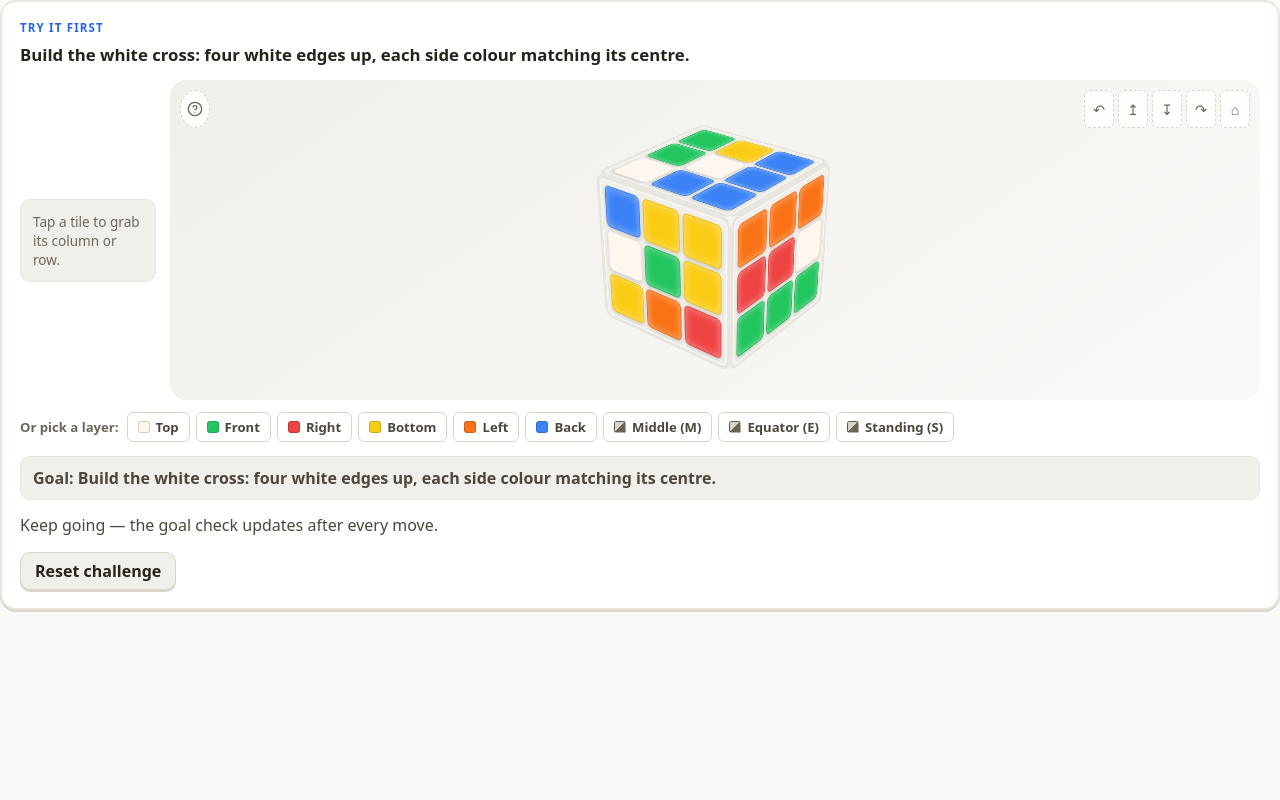
Test: ChallengePanel — 3×3 sticker-level layer selection › the centre tile toggles between its two slices on repeated taps
This screenshot has width=1280, height=800.
Click the button with test id "cube-sticker". click: (664, 272)
box: [596,172,731,372]
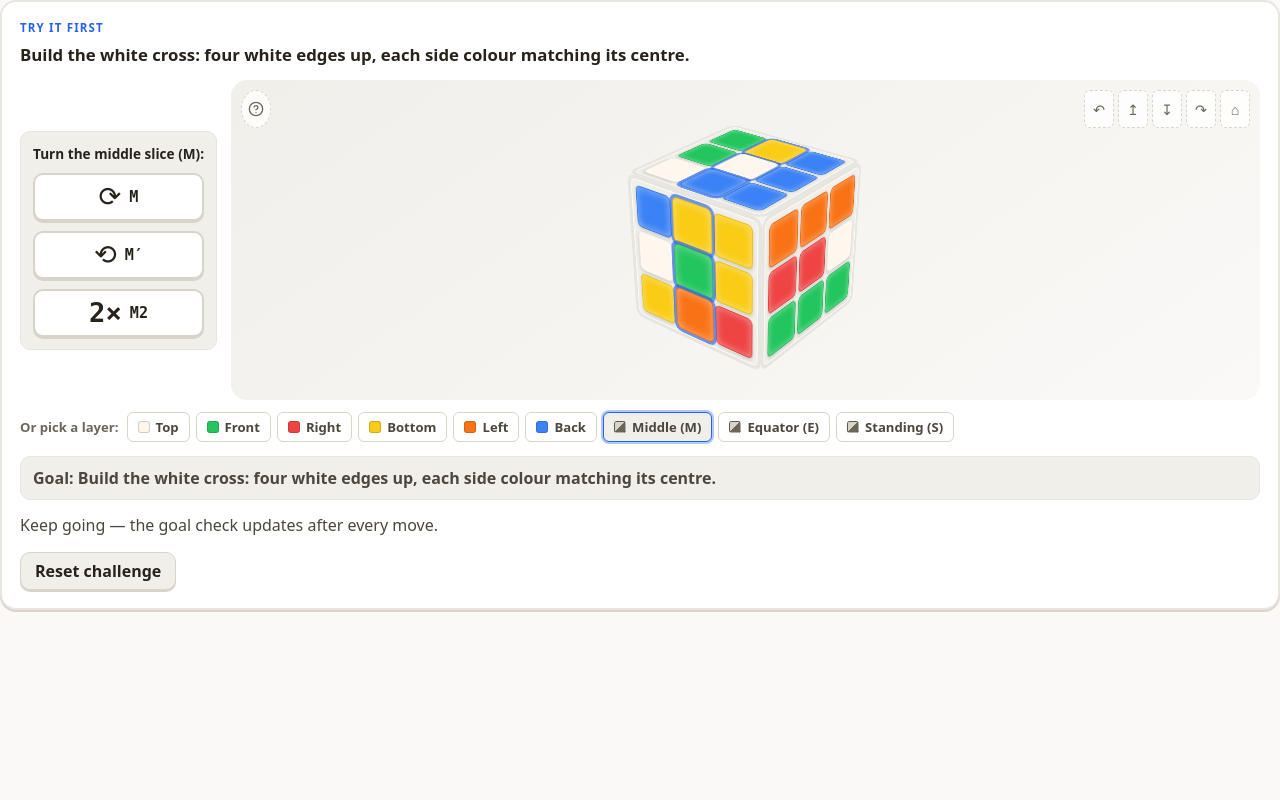
expect the text "Turn the middle slice (M):" is shown: met, box [33,144,204,162]
Click the button with test id "cube-sticker". click: (694, 272)
box: [627,172,762,372]
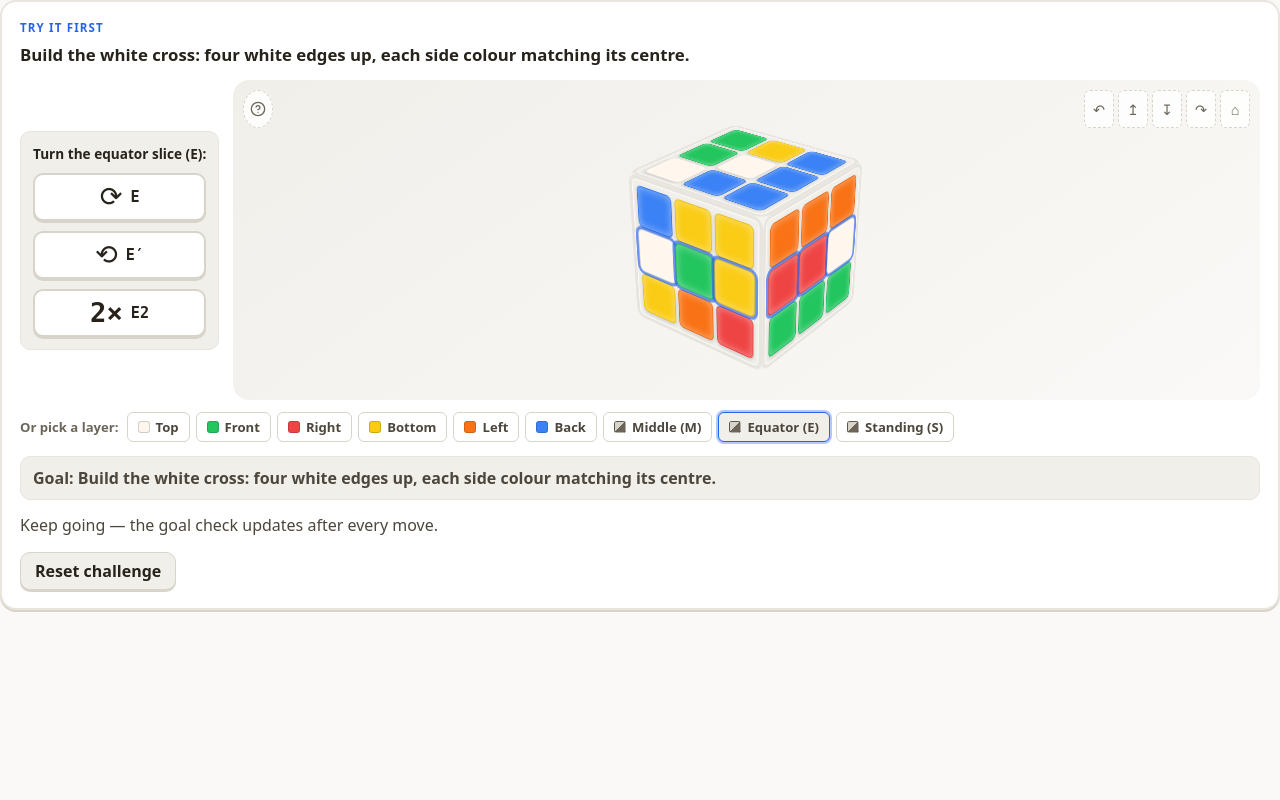
expect the text "Turn the equator slice (E):" is shown: met, box [33,144,206,162]
Click the button with test id "cube-sticker". click: (695, 272)
box: [628,172,763,372]
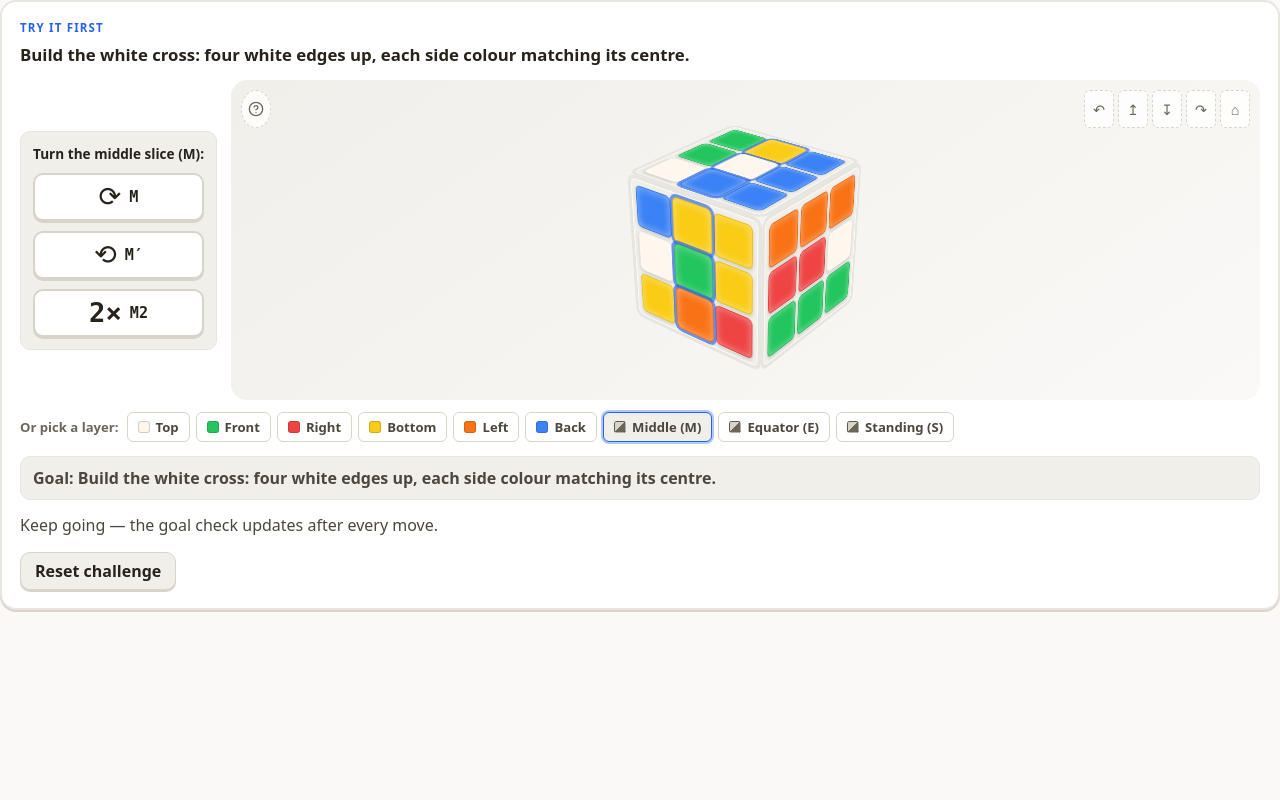
expect the text "Turn the middle slice (M):" is shown: met, box [33,144,204,162]
